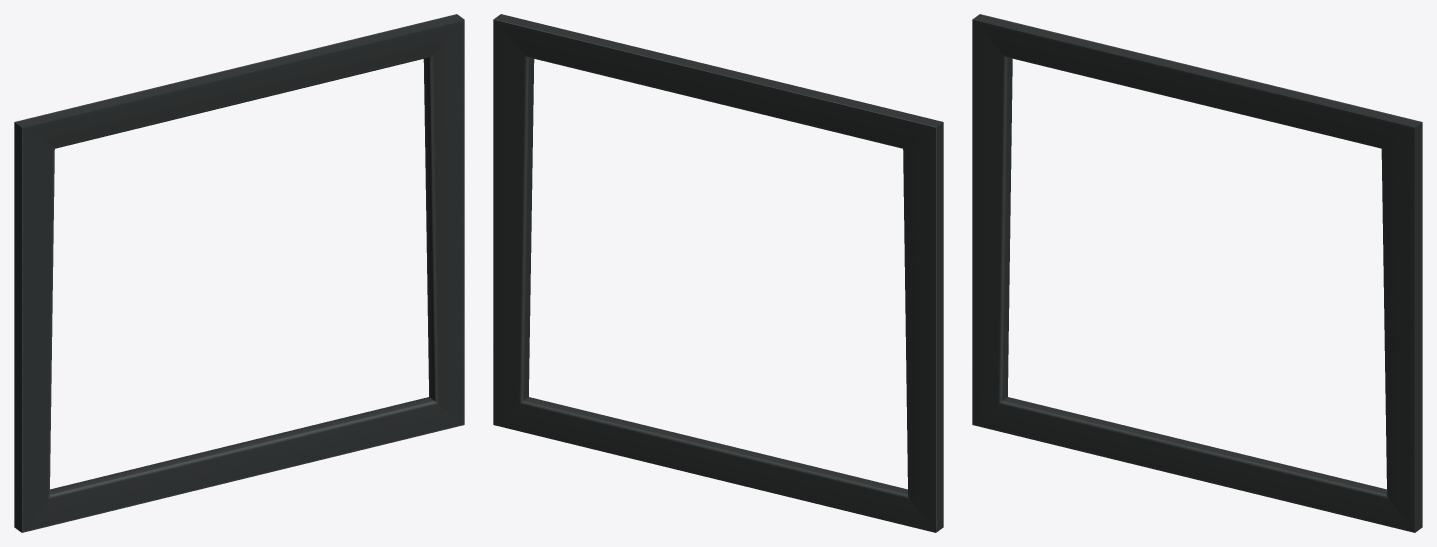
The model's file is PropWindow02TypeB_2.FBX.
The picture shows the model from 3 angles, left to right: view 1: azimuth 30°, elevation 25°; view 2: azimuth 150°, elevation 25°; view 3: azimuth 330°, elevation 25°; orthographic projection.
Parts seen in each view (by area): view 1: PropWindow02TypeB_2; view 2: PropWindow02TypeB_2; view 3: PropWindow02TypeB_2.
Boxes of the visible parts, x1,y1,x2,y2 form: PropWindow02TypeB_2: (14, 14, 464, 532); PropWindow02TypeB_2: (493, 14, 943, 532); PropWindow02TypeB_2: (972, 14, 1422, 532).
Size of what is drawn, in the model's own units: 2 by 1.75 by 0.06.
